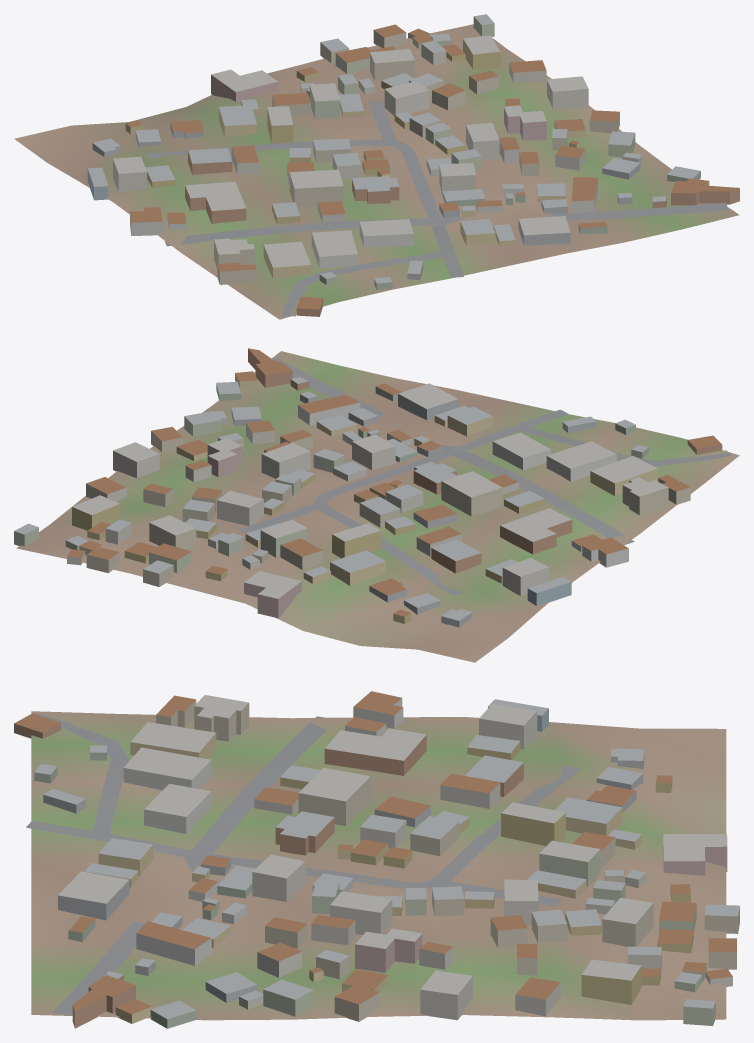
3 views of the same model, one above another, from view 1: azimuth 30°, elevation 25°; view 2: azimuth 150°, elevation 25°; view 3: azimuth 270°, elevation 25° (orthographic). The views are drawn at different scales.
Visible parts, largest first — view 1: Lo; view 2: Lo; view 3: Lo.
Part boxes in pixels (<box>): Lo: <box>14,14,739,319</box>; Lo: <box>14,348,739,662</box>; Lo: <box>14,691,739,1028</box>.
Size of the model in its own units: 276 by 23.01 by 267.
